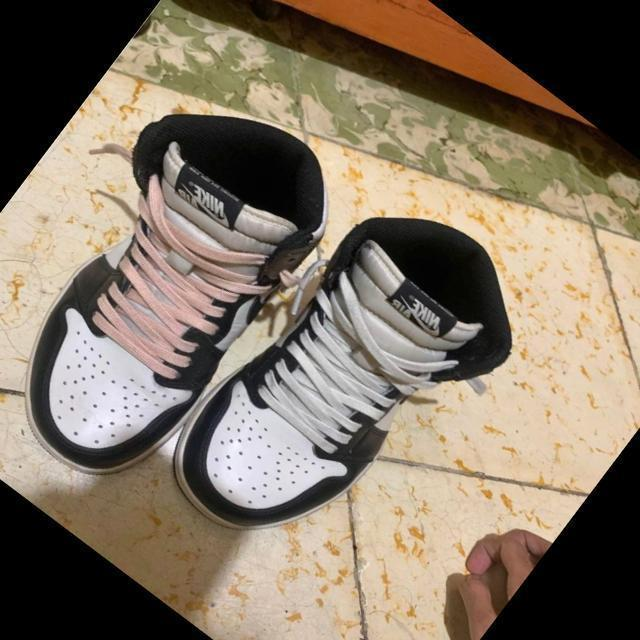nike original jordan 1: (145, 166, 552, 604), (0, 57, 365, 510)
